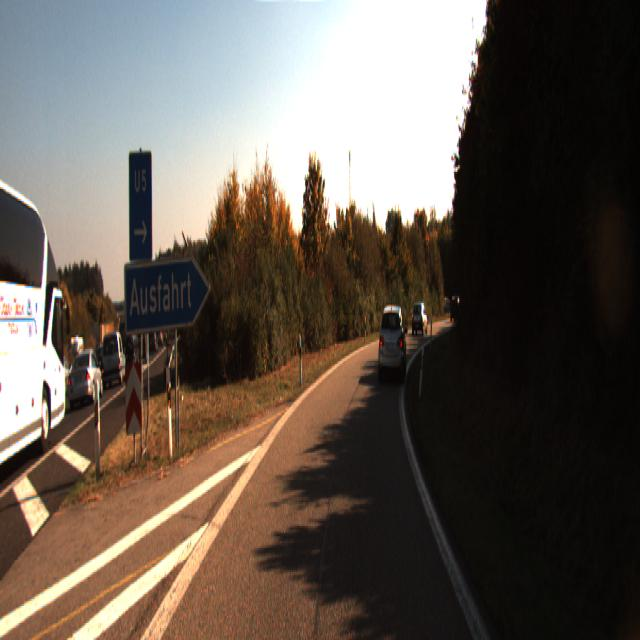Car: (0, 154, 69, 495), (378, 302, 407, 382), (68, 347, 104, 410), (102, 334, 126, 392), (412, 302, 428, 336), (449, 296, 463, 322)
